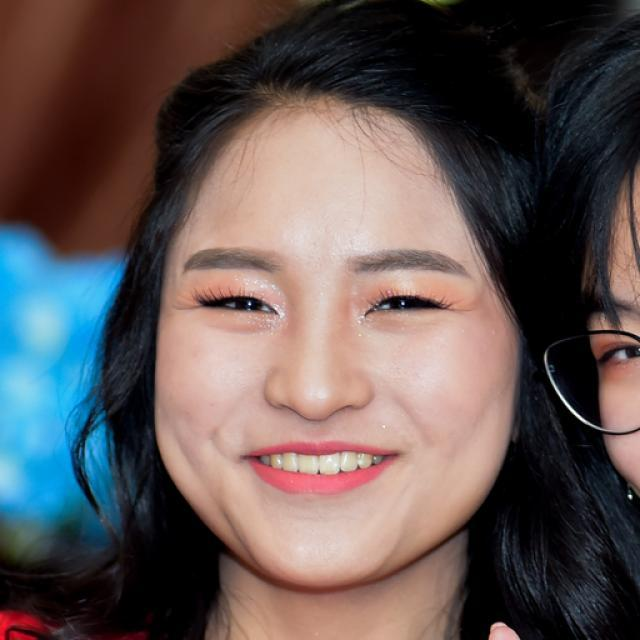happy: (152, 85, 524, 597)
